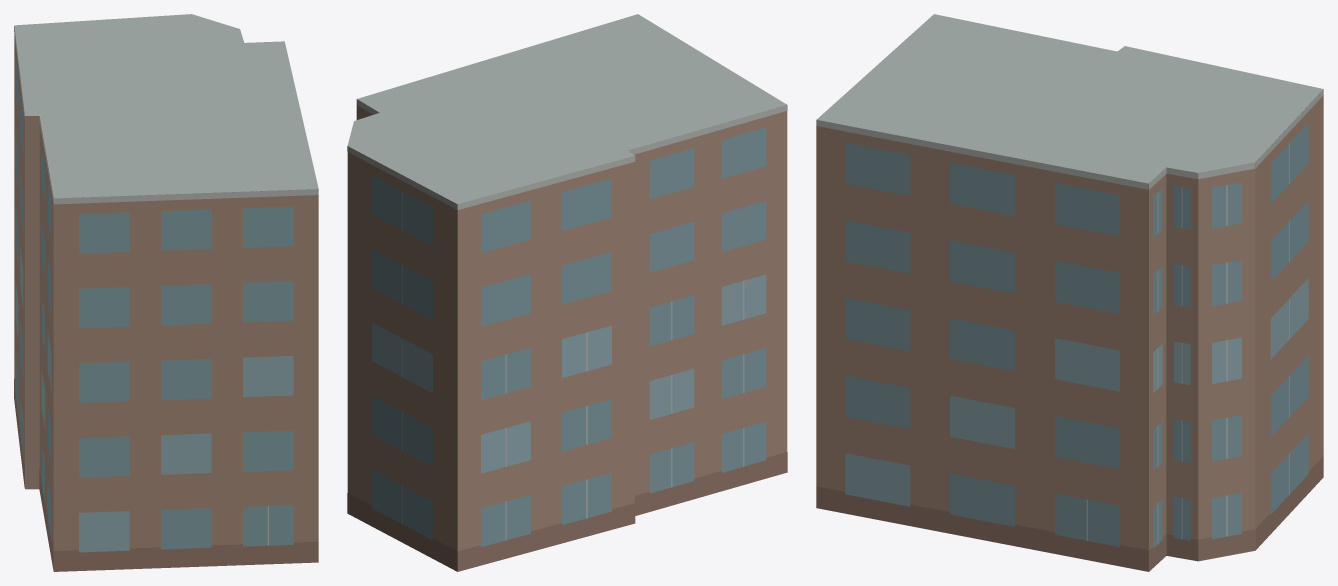
The model's file is survey-upis-32525164.glb.
3 renders of one model, left to right at view 1: azimuth 30°, elevation 25°; view 2: azimuth 150°, elevation 25°; view 3: azimuth 270°, elevation 25°, orthographic. The views are drawn at different scales.
Visible parts, largest first — view 1: survey-upis-32525164.tmp; view 2: survey-upis-32525164.tmp; view 3: survey-upis-32525164.tmp.
Part boxes in pixels (x1,y1,x2,y2): survey-upis-32525164.tmp: (14, 14, 318, 571); survey-upis-32525164.tmp: (347, 14, 787, 571); survey-upis-32525164.tmp: (816, 14, 1323, 571).
Bounding box in the file's own units: 14.29 × 15.25 × 18.06.
